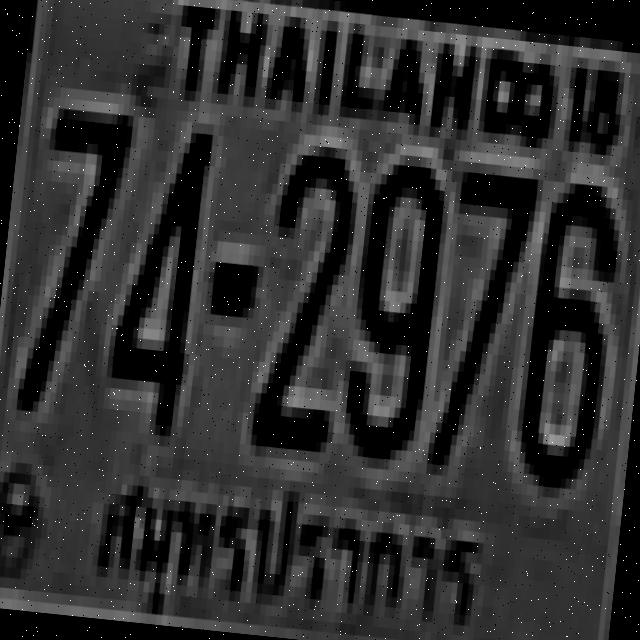2: (250, 136, 358, 448)
4: (101, 116, 208, 427)
6: (512, 169, 619, 480)
7: (17, 96, 129, 408), (426, 160, 534, 471)
9: (340, 152, 446, 452)
SamutPrakan: (80, 458, 495, 640)
